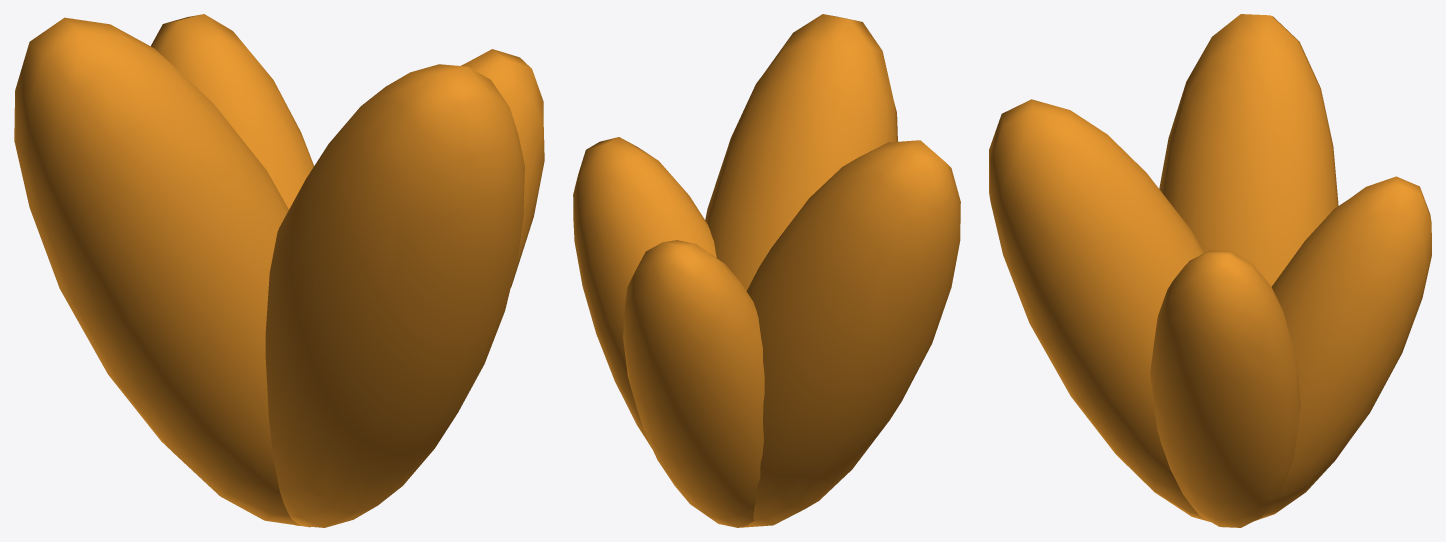
The picture shows the model from 3 angles, left to right: view 1: azimuth 30°, elevation 25°; view 2: azimuth 150°, elevation 25°; view 3: azimuth 270°, elevation 25°; orthographic projection. The views are drawn at different scales.
Parts seen in each view (by area): view 1: Cube.016; view 2: Cube.016; view 3: Cube.016.
Part boxes in pixels (x1,y1,x2,y2): Cube.016: [14, 14, 544, 527]; Cube.016: [573, 14, 960, 527]; Cube.016: [989, 14, 1431, 527].
Size of the model in its own units: 339 by 357 by 340.
